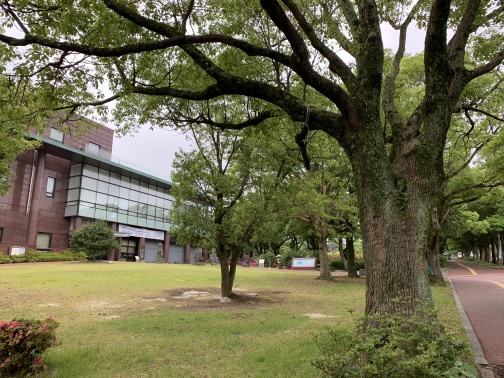Museum: (6, 106, 217, 269)
